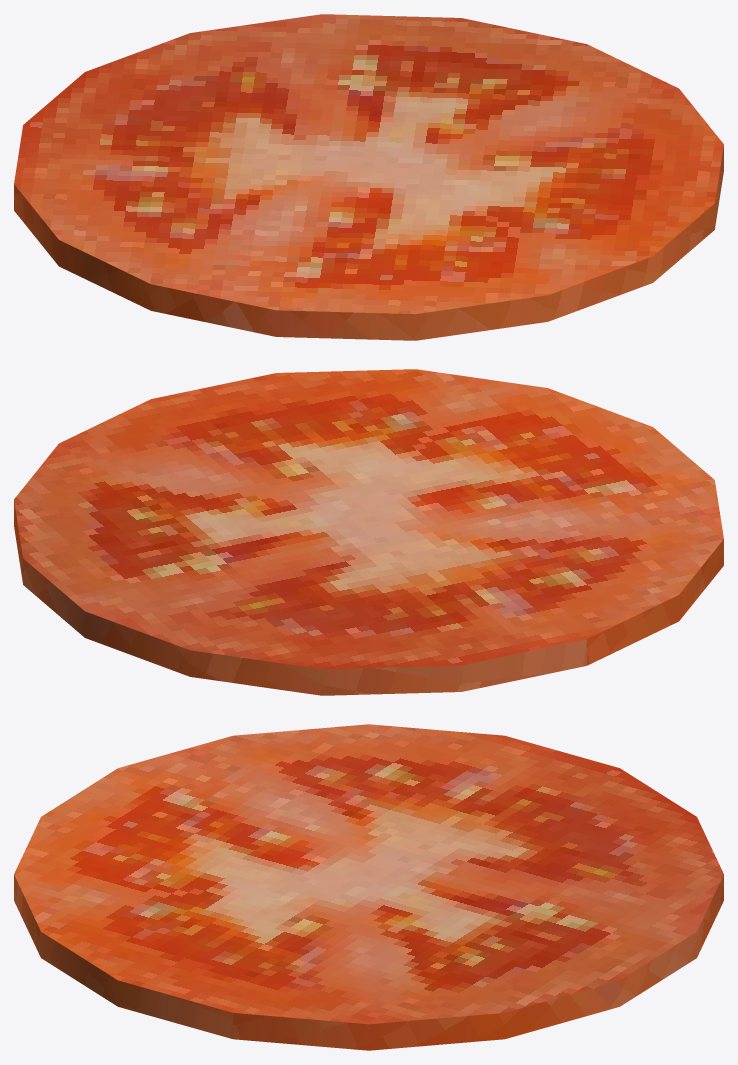
Rendered from tomato.glb.
3 views of the same model, one above another, from view 1: azimuth 30°, elevation 25°; view 2: azimuth 150°, elevation 25°; view 3: azimuth 270°, elevation 25° (orthographic).
Visible parts, largest first — view 1: Cylinder.008; view 2: Cylinder.008; view 3: Cylinder.008.
Part boxes in pixels (x1,y1,x2,y2): Cylinder.008: [14, 14, 723, 340]; Cylinder.008: [14, 369, 723, 695]; Cylinder.008: [14, 724, 723, 1050].
Bounding box in the file's own units: 17.42 × 0.7146 × 17.42.
1 material, 1 textured.
